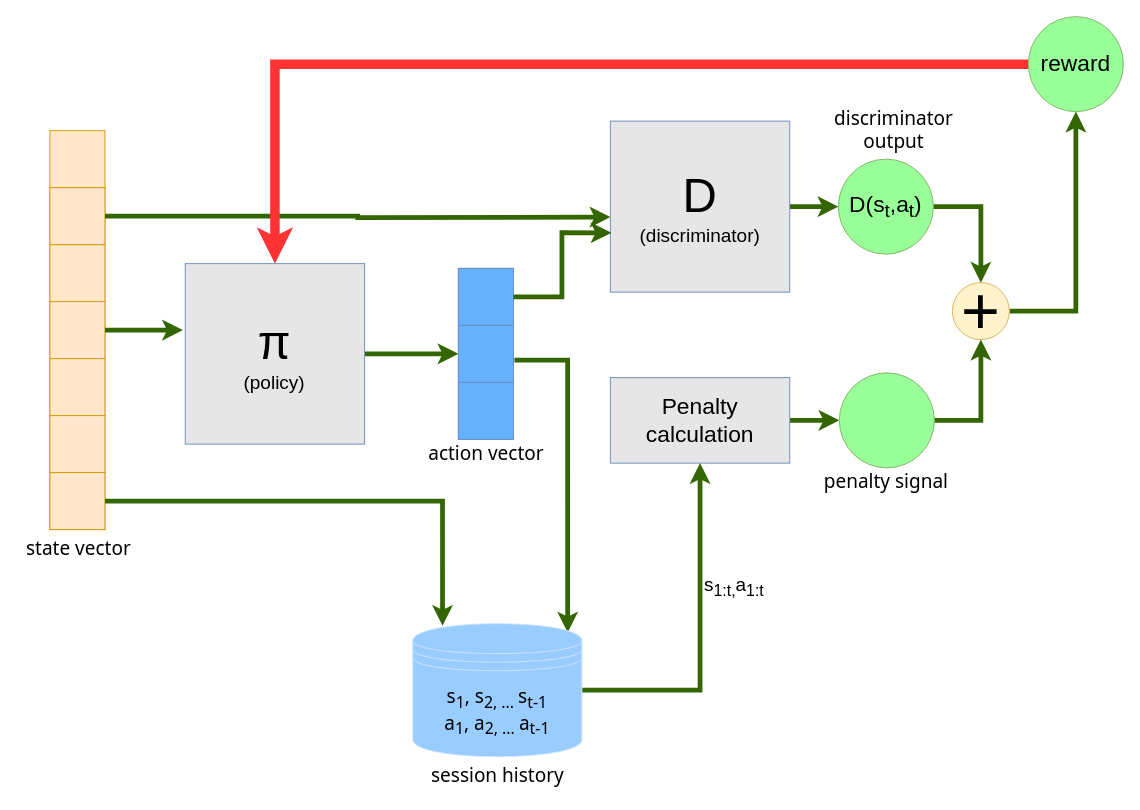
Image size: 1140x810. Some labels were removed from this diagram. Each missing label, with the centre of its shape:
"a t" belongs at point 485,353.
"P(s 1:t, a 1:t )" belongs at point 886,420.
"s t" belongs at point 77,330.
